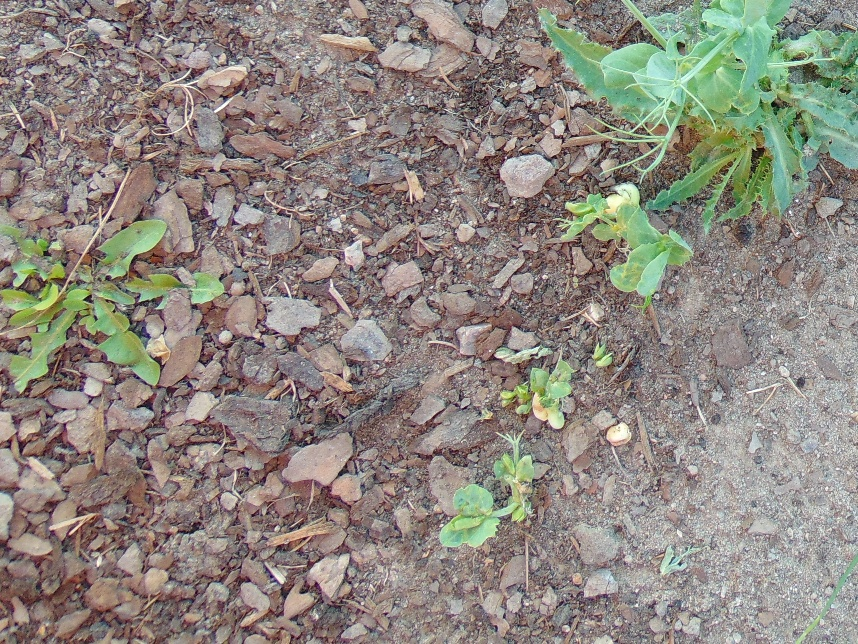crop: (613, 1, 812, 173), (561, 181, 694, 294), (437, 428, 537, 550), (503, 356, 581, 423)
weed: (6, 215, 218, 394), (654, 106, 857, 225), (787, 36, 858, 155), (6, 222, 70, 292)
